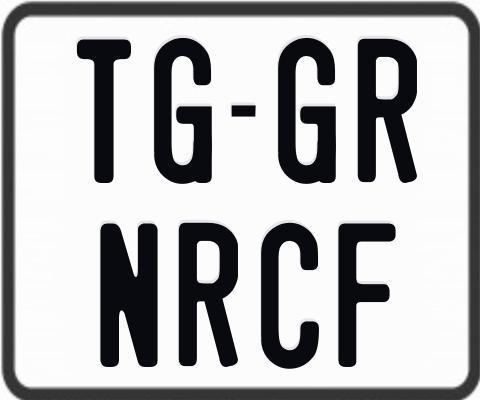C: (258, 222, 318, 371)
F: (335, 222, 394, 367)
G: (154, 38, 213, 189), (277, 37, 335, 183)
N: (99, 221, 157, 369)
R: (355, 39, 419, 188), (178, 222, 240, 369)
T: (76, 36, 132, 183)
